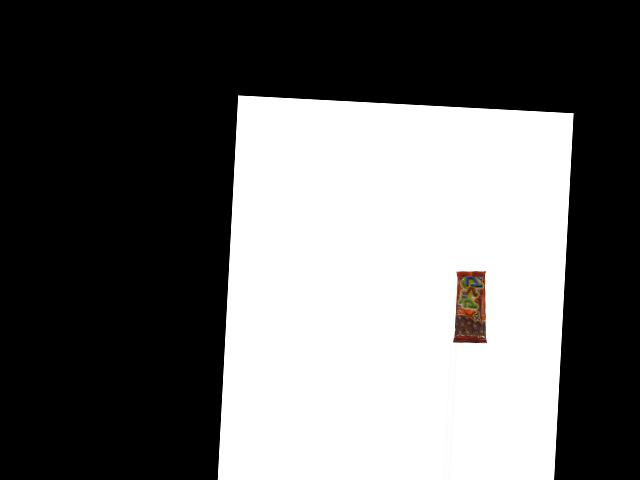chocolate: (452, 269, 489, 344)
